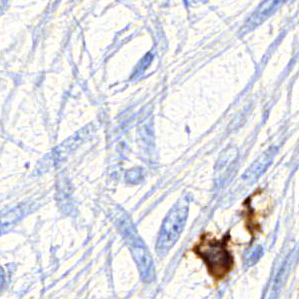Lymphocyte: (193, 230, 238, 279)
